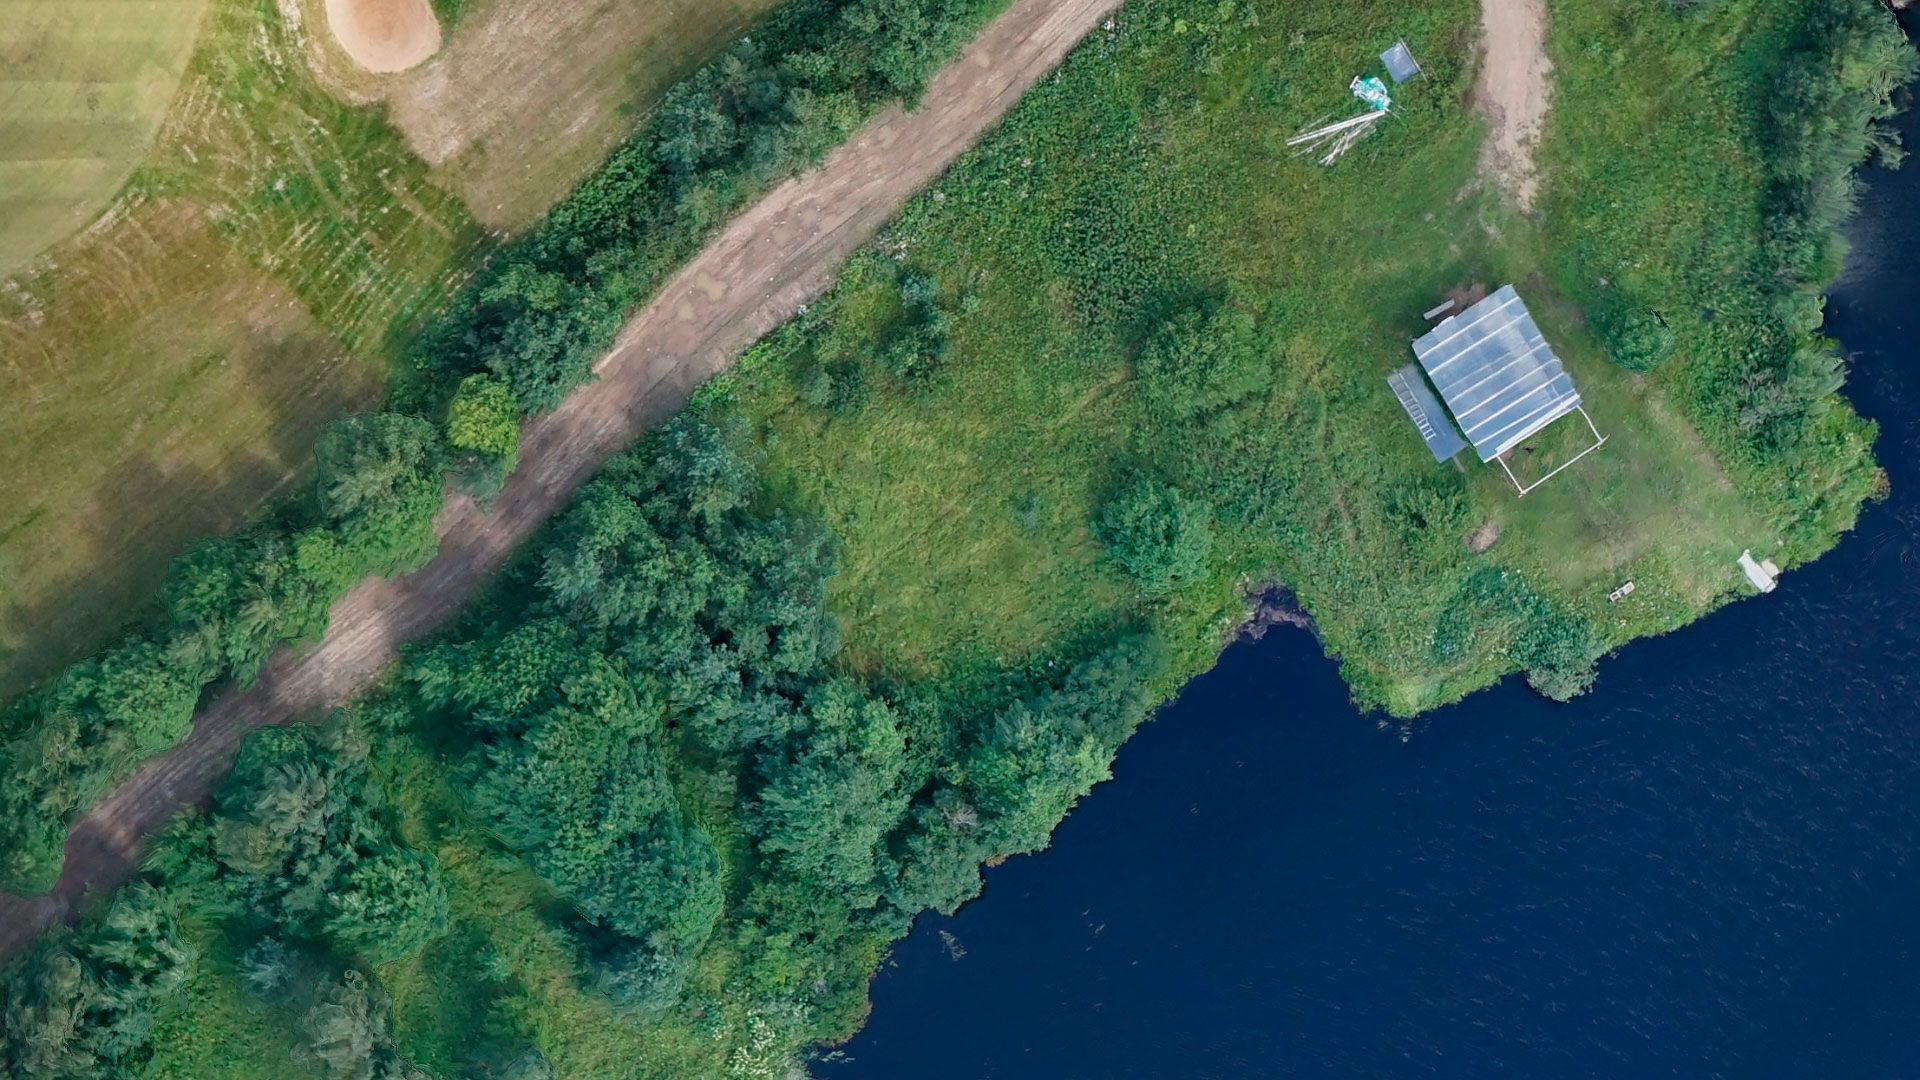build: (1378, 280, 1584, 469)
